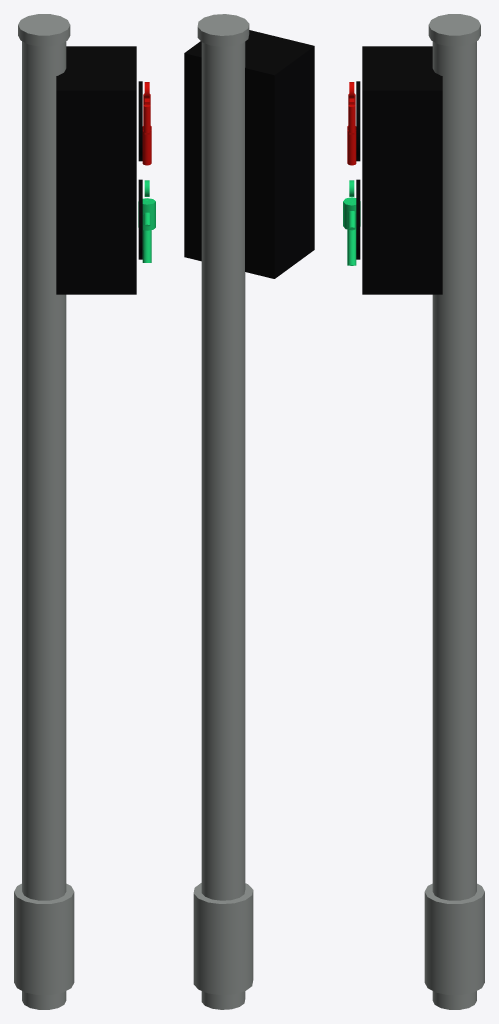
File: signal_ped.glb
3 renders of one model, left to right at view 1: azimuth 90°, elevation 25°; view 2: azimuth 150°, elevation 25°; view 3: azimuth 270°, elevation 25°, orthographic.
Parts seen in each view (by area): view 1: pole, lamp_ped_green, lamp_ped_red; view 2: pole; view 3: pole, lamp_ped_green, lamp_ped_red.
Boxes of the visible parts, x1,y1,x2,y2 form: pole: (14,14,142,1009); lamp_ped_green: (138,180,155,262); lamp_ped_red: (142,82,151,165); pole: (184,14,314,1009); pole: (356,14,484,1009); lamp_ped_green: (343,180,360,265); lamp_ped_red: (347,82,356,165).
Size of the model in its own units: 0.26 by 2.68 by 0.353.
